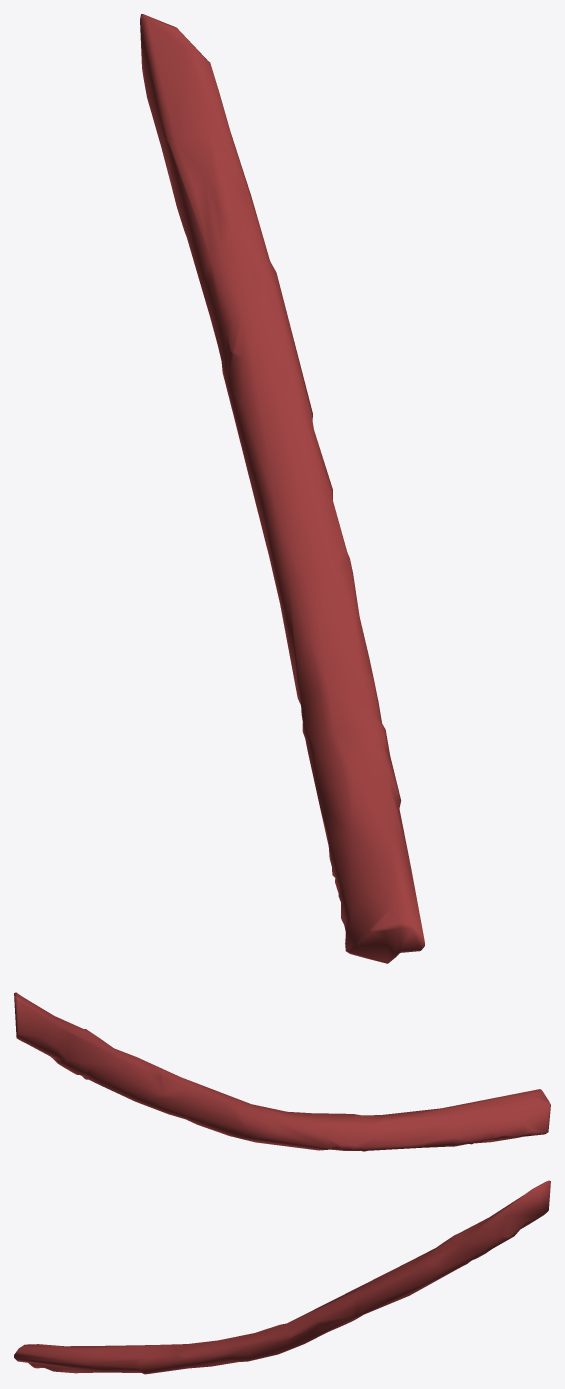
File: tendinous-arch-of-levator-ani-l.glb
3 views of the same model, one above another, from view 1: azimuth 30°, elevation 25°; view 2: azimuth 150°, elevation 25°; view 3: azimuth 270°, elevation 25° (orthographic). The views are drawn at different scales.
Visible parts, largest first — view 1: Tendinous arch of levator ani.l; view 2: Tendinous arch of levator ani.l; view 3: Tendinous arch of levator ani.l.
Boxes of the visible parts, box(x1,y1,x2,y2) form: Tendinous arch of levator ani.l: box(140, 14, 424, 963); Tendinous arch of levator ani.l: box(14, 992, 550, 1151); Tendinous arch of levator ani.l: box(14, 1180, 550, 1374).
Bounding box in the file's own units: 0.0238 × 0.0341 × 0.0653.
